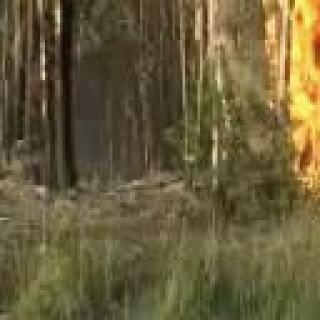fire: (268, 0, 320, 97), (278, 107, 320, 225)
